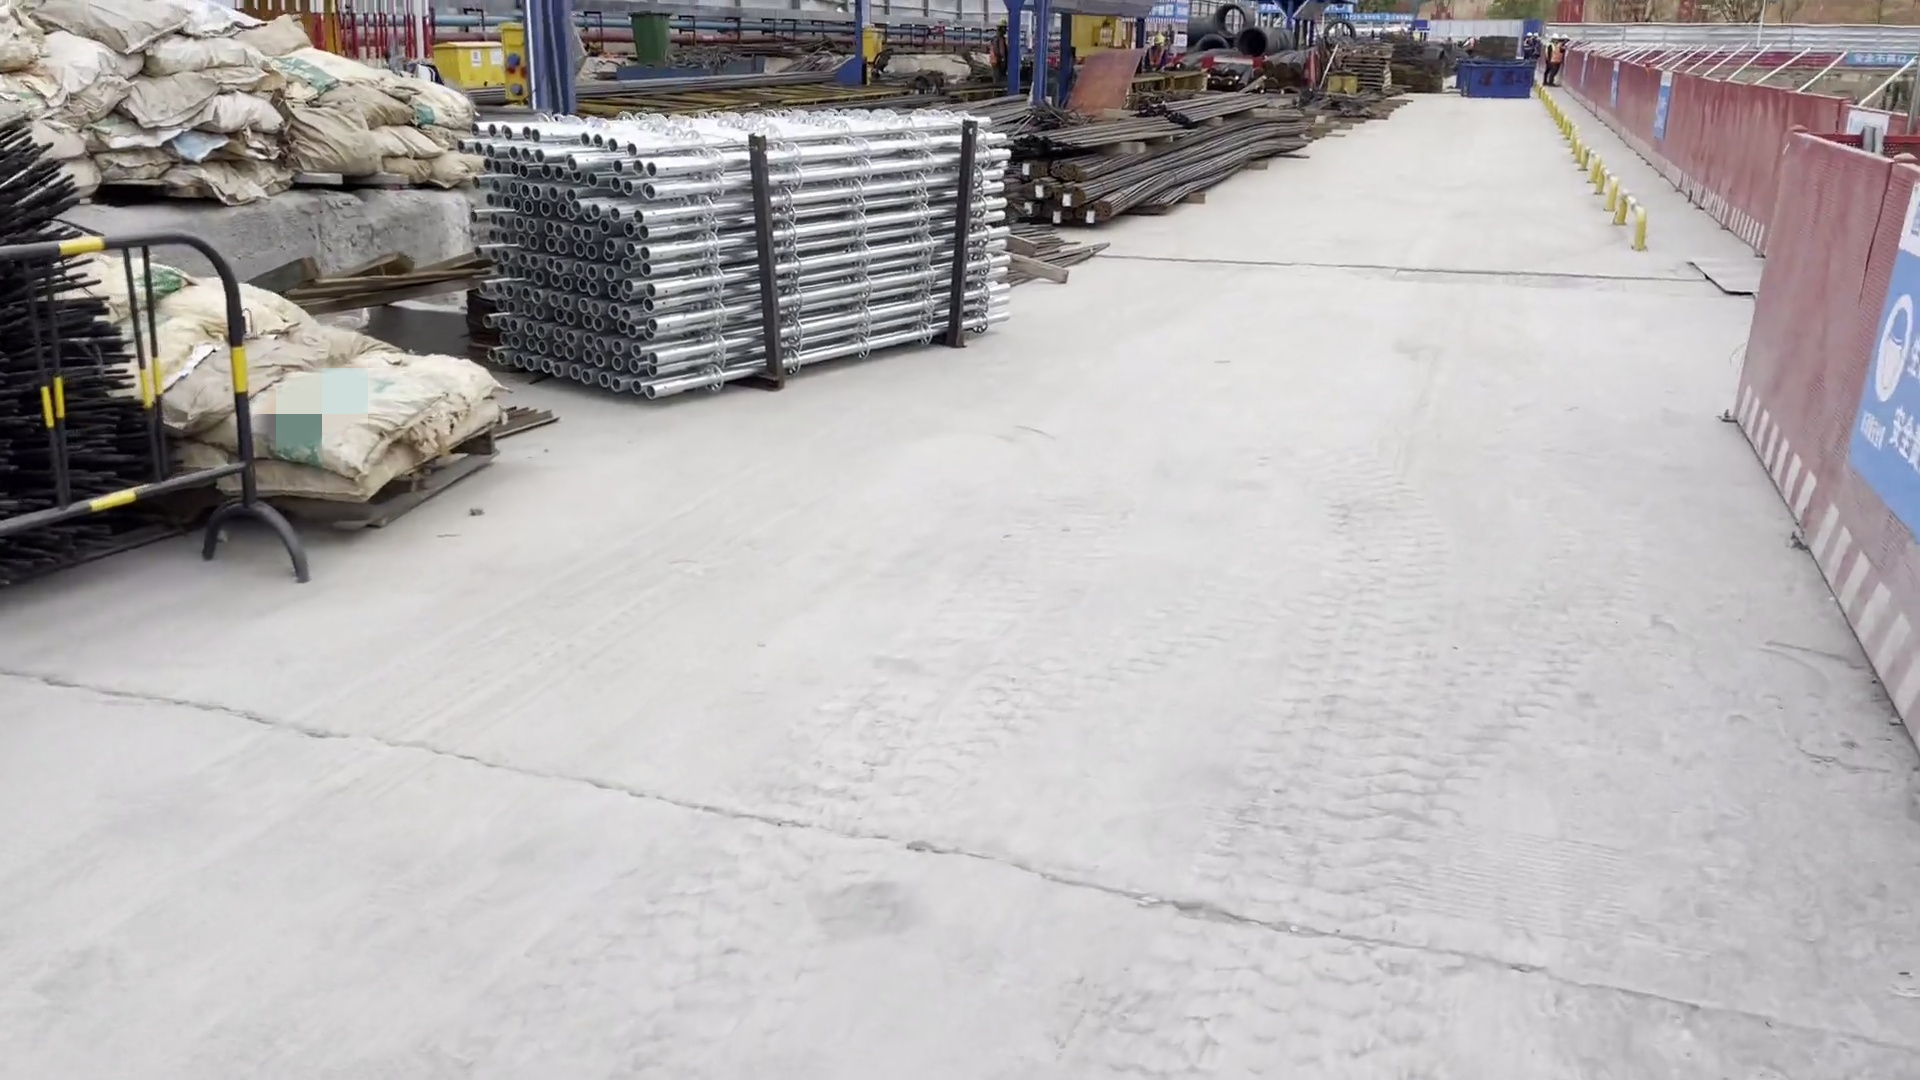ebox: (440, 22, 515, 95), (500, 9, 541, 104), (854, 23, 900, 69)
fence: (1719, 123, 1920, 759), (1548, 28, 1920, 310)
helmet: (1561, 35, 1569, 43), (1551, 34, 1558, 42), (1467, 33, 1472, 39), (1527, 33, 1533, 38), (1447, 34, 1452, 39), (1535, 34, 1537, 38)
hopper: (1451, 60, 1545, 102)
person: (1551, 37, 1571, 88), (1543, 35, 1559, 86), (1521, 33, 1533, 58), (1533, 33, 1542, 60), (1464, 34, 1473, 49), (1445, 34, 1453, 45)
rebar: (978, 64, 1303, 235)
scaffold: (443, 74, 1017, 378)
vest: (1553, 45, 1566, 62), (1547, 43, 1556, 62), (1524, 38, 1532, 54), (1534, 40, 1541, 53), (1466, 39, 1472, 48)
